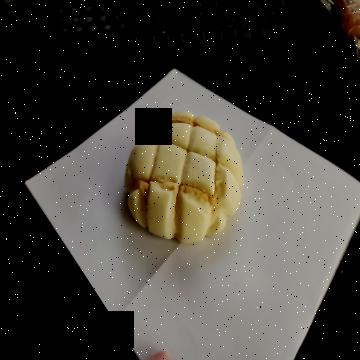melon_bread: (124, 113, 247, 241)
